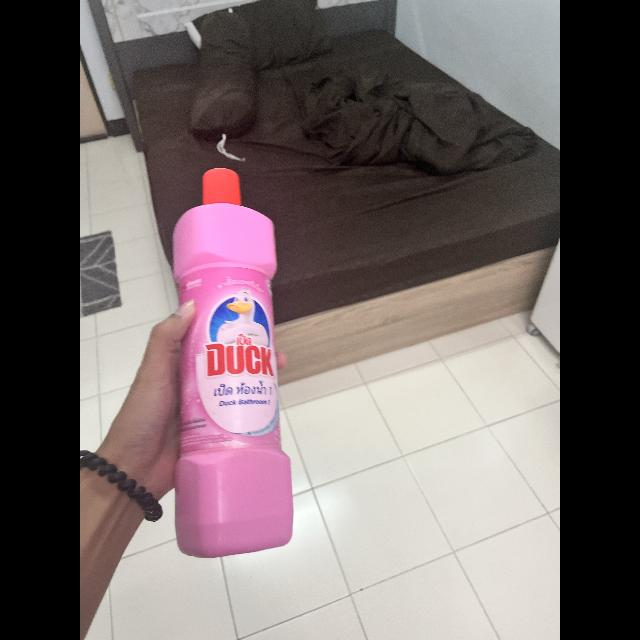chemical_plastic_bottle: (169, 164, 297, 556)
